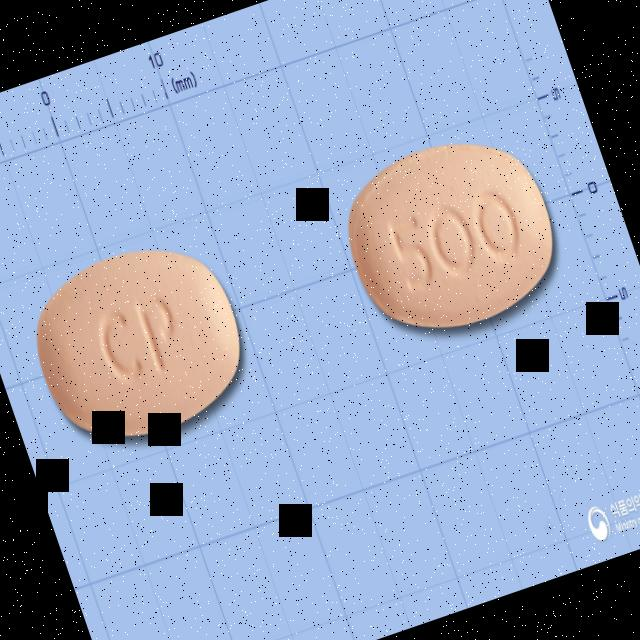Refloxin Tab- -For Export-: (326, 115, 576, 354), (15, 224, 262, 462)
